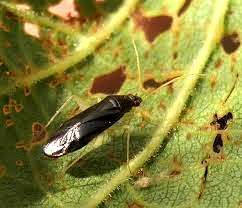Helopeltis-insect: (41, 92, 144, 159)
